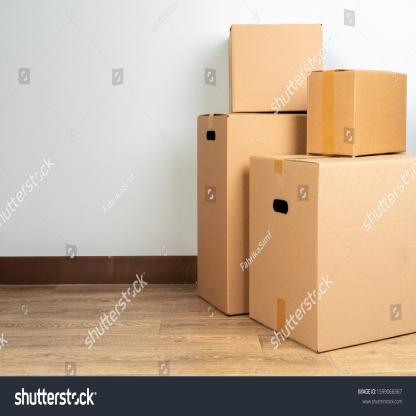box: (248, 155, 318, 354), (232, 23, 322, 111), (197, 114, 227, 316), (307, 70, 354, 156)
